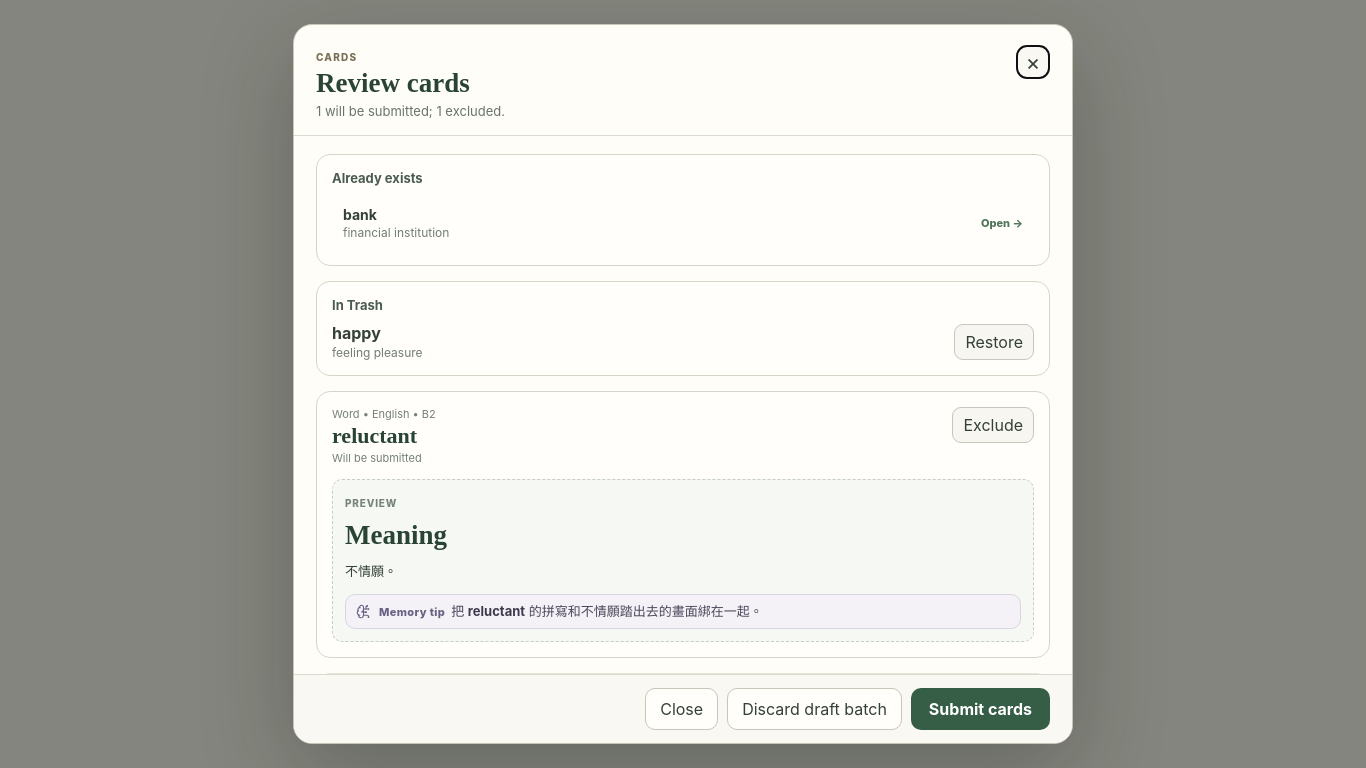
Test: LearningItemDraftDialog › shows an existing-item load error and lets the user retry
Click the button with aria-label "Open bank details" at (360, 214), box [332,196,1034,250]
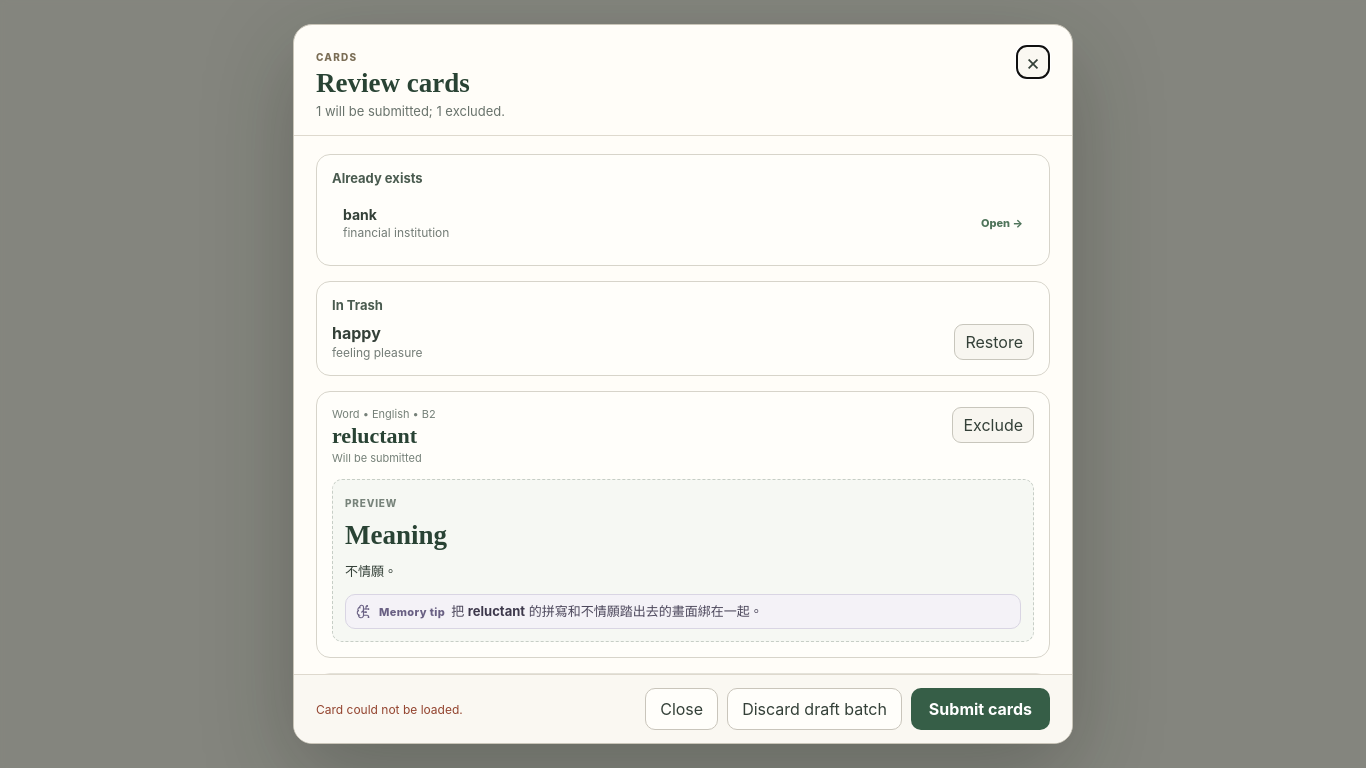
Expected: the message reads "Card could not be loaded.", [316,702,463,716]
Click the button with aria-label "Open bank details" at (360, 214), box [332,196,1034,250]
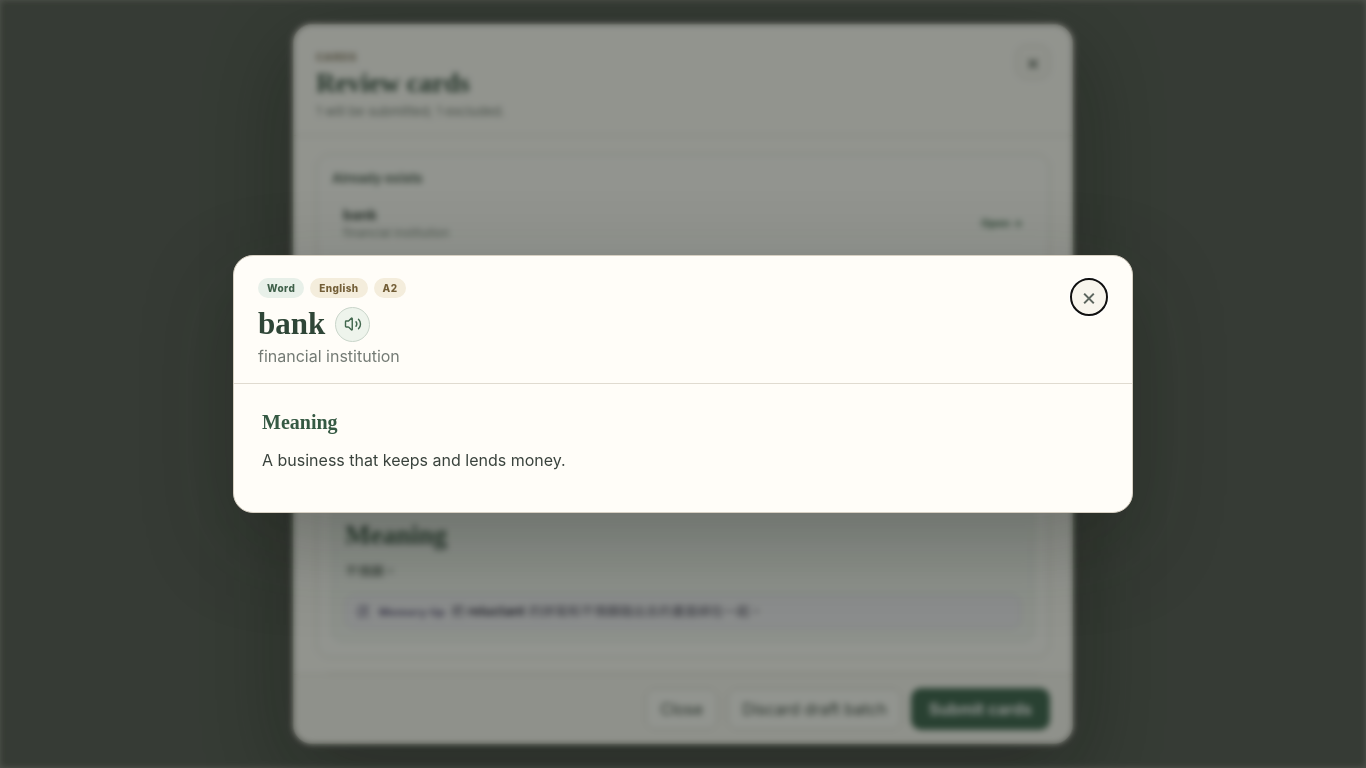
Expected: the dialog "bank" is shown, [233,255,1133,513]
